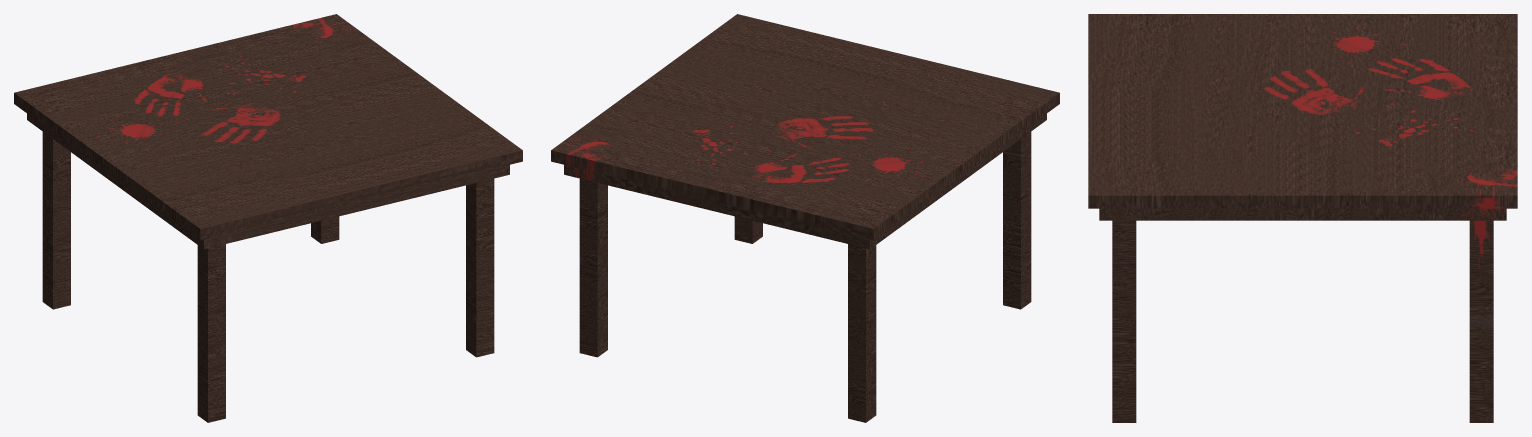
Rendered from Table.obj.
3 views of the same model, side by side, from view 1: azimuth 30°, elevation 25°; view 2: azimuth 150°, elevation 25°; view 3: azimuth 270°, elevation 25° (orthographic). The views are drawn at different scales.
Parts seen in each view (by area): view 1: table:table; view 2: table:table; view 3: table:table.
Boxes of the visible parts, bbox=[...] form: table:table: bbox=[14, 14, 522, 422]; table:table: bbox=[551, 14, 1059, 422]; table:table: bbox=[1088, 14, 1517, 422].
Bounding box in the file's own units: 105 × 64.09 × 105.
1 material, 1 textured.
